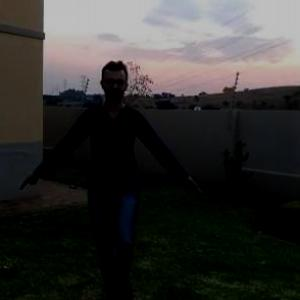land: (29, 61, 189, 278)
